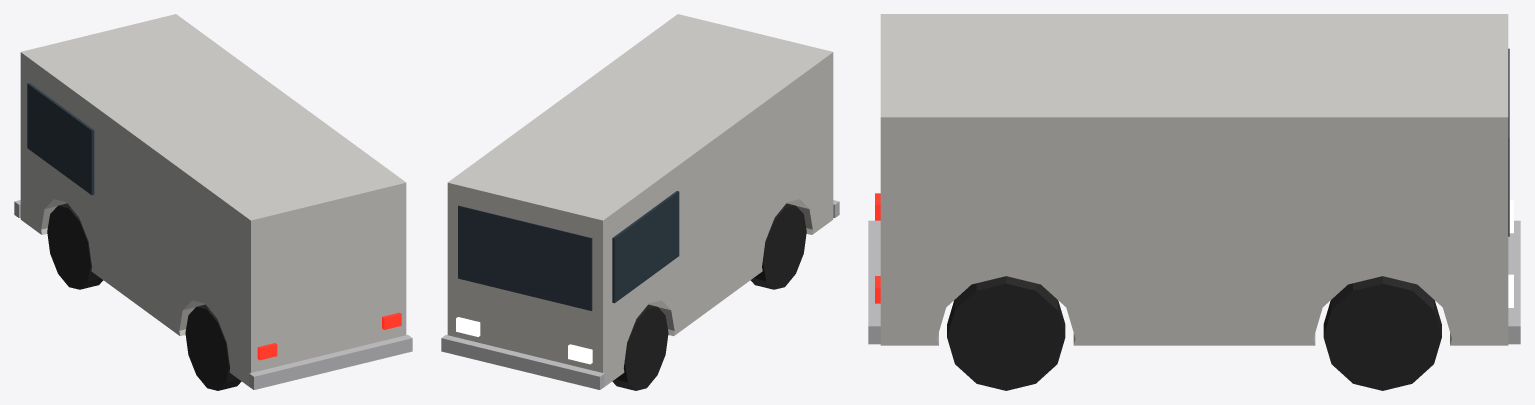
Rendered from van.glb.
3 renders of one model, left to right at view 1: azimuth 30°, elevation 25°; view 2: azimuth 150°, elevation 25°; view 3: azimuth 270°, elevation 25°, orthographic. The views are drawn at different scales.
Visible parts, largest first — view 1: body, side_glass_l, bumper_r, WHEEL_FL, WHEEL_RL; view 2: body, windscreen, side_glass_l, bumper_f, WHEEL_RL, WHEEL_FL, headlamp, headlamp.001; view 3: body, WHEEL_FR, WHEEL_RR, bumper_r, bumper_f.
Part boxes in pixels (bbox=[...]): body: bbox=[20, 14, 406, 387]; side_glass_l: bbox=[27, 83, 94, 195]; bumper_r: bbox=[249, 335, 412, 389]; WHEEL_FL: bbox=[47, 203, 103, 289]; WHEEL_RL: bbox=[185, 304, 241, 390]; body: bbox=[447, 14, 833, 387]; windscreen: bbox=[458, 205, 592, 310]; side_glass_l: bbox=[612, 191, 679, 303]; bumper_f: bbox=[441, 335, 604, 389]; WHEEL_RL: bbox=[750, 203, 806, 289]; WHEEL_FL: bbox=[612, 304, 668, 390]; headlamp: bbox=[568, 344, 592, 364]; headlamp.001: bbox=[456, 317, 480, 336]; body: bbox=[880, 14, 1508, 345]; WHEEL_FR: bbox=[1323, 276, 1441, 390]; WHEEL_RR: bbox=[947, 276, 1065, 390]; bumper_r: bbox=[868, 220, 880, 344]; bumper_f: bbox=[1508, 220, 1520, 344].
Size of the model in its own units: 2 by 2.42 by 5.2.
